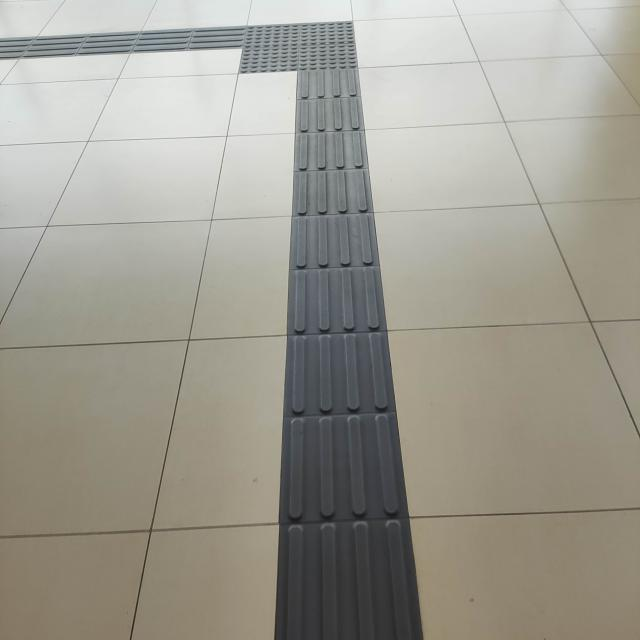kiri: (171, 13, 381, 96)
